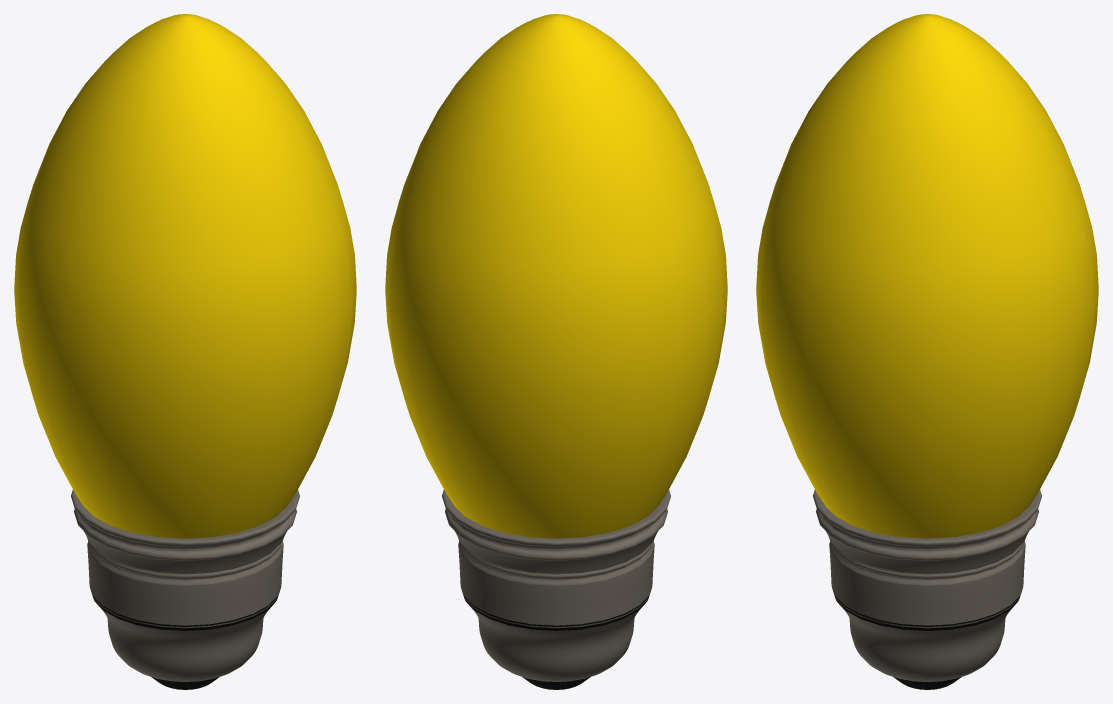
File: Bombillito de navidad_Artist_andres Rico Lopez.fbx
The picture shows the model from 3 angles, left to right: view 1: azimuth 30°, elevation 25°; view 2: azimuth 150°, elevation 25°; view 3: azimuth 270°, elevation 25°; orthographic projection.
Parts seen in each view (by area): view 1: Torno; view 2: Torno; view 3: Torno.
Part boxes in pixels (left/top/right/bottom): Torno: left=14, top=14, right=356, bottom=689; Torno: left=385, top=14, right=727, bottom=689; Torno: left=756, top=14, right=1098, bottom=689.
Bounding box in the file's own units: 162 × 347 × 162.
